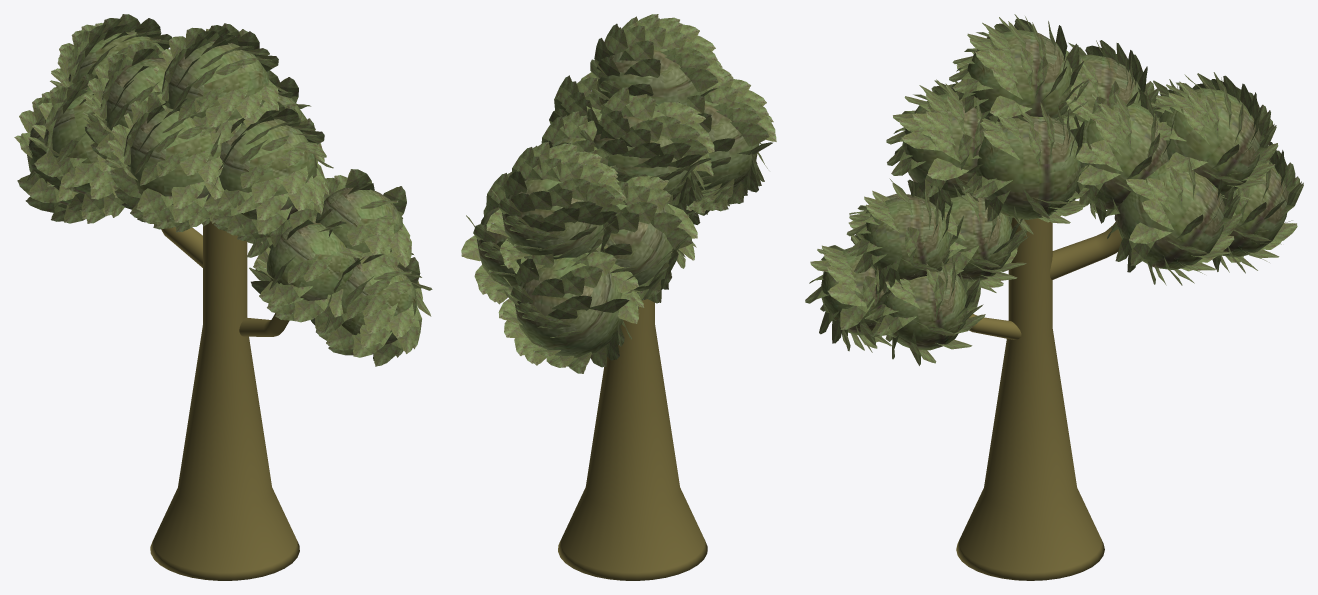
Rendered from Tree.fbx.
The picture shows the model from 3 angles, left to right: view 1: azimuth 30°, elevation 25°; view 2: azimuth 150°, elevation 25°; view 3: azimuth 270°, elevation 25°; orthographic projection.
Parts seen in each view (by area): view 1: Cube.004; view 2: Cube.004; view 3: Cube.004.
Boxes of the visible parts, box(x1,y1,x2,y2) form: Cube.004: box(14, 14, 432, 580); Cube.004: box(461, 14, 776, 580); Cube.004: box(805, 14, 1303, 580).
Bounding box in the file's own units: 444 × 883 × 766.
